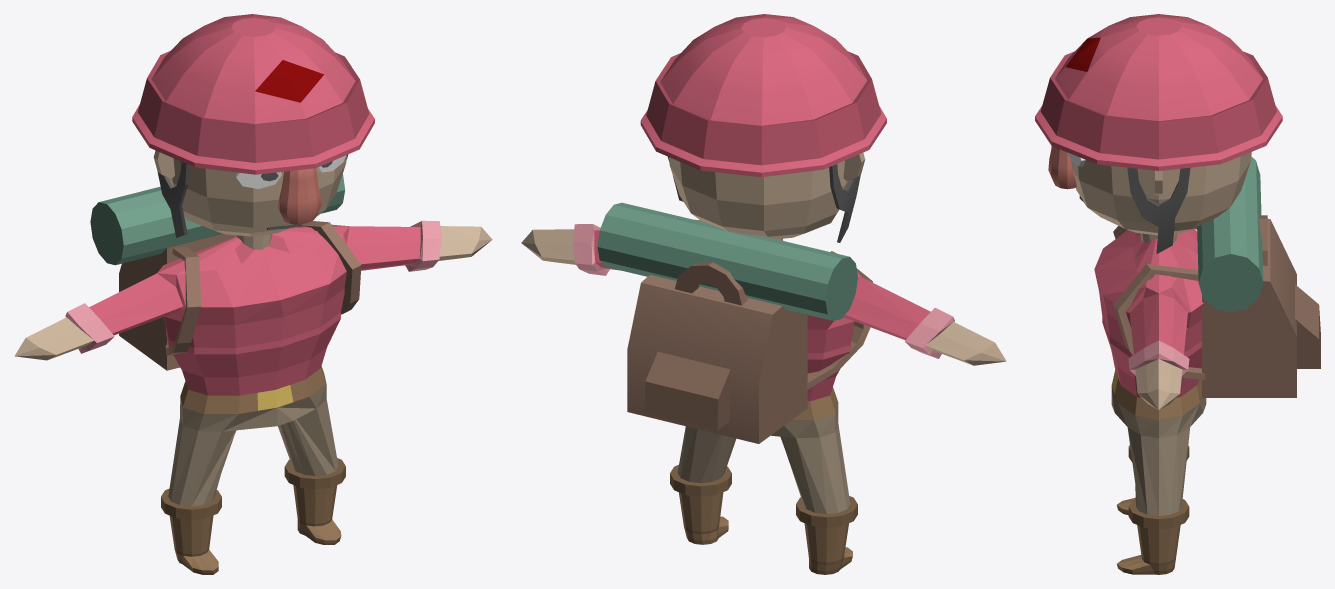
Rendered from Enemy Troop.fbx.
The picture shows the model from 3 angles, left to right: view 1: azimuth 30°, elevation 25°; view 2: azimuth 150°, elevation 25°; view 3: azimuth 270°, elevation 25°; orthographic projection. The views are drawn at different scales.
Parts seen in each view (by area): view 1: pasted__polySurface2, pasted__pasted__pCylinder1, pasted__pSphere1, pasted__pasted__pCylinder3, pasted__pasted__pCube2, pasted__pCylinder2, pasted__polySurface3, pasted__polySurface4, pasted__pPipe1; view 2: pasted__pasted__pCylinder1, pasted__polySurface2, pasted__pasted__pCube2, pasted__pasted__pCylinder3, pasted__pSphere1, pasted__pasted__pCube3, pasted__pasted__pPipe1, pasted__pPipe1, pasted__polySurface3; view 3: pasted__pasted__pCylinder1, pasted__polySurface2, pasted__pasted__pCube2, pasted__pSphere1, pasted__pasted__pCylinder3, pasted__pPipe2, pasted__polySurface4, pasted__pasted__pCube3, pasted__pCylinder2.
Part boxes in pixels (x1,y1,x2,y2): pasted__polySurface2: [14, 220, 492, 574]; pasted__pasted__pCylinder1: [132, 14, 374, 174]; pasted__pSphere1: [168, 155, 346, 236]; pasted__pasted__pCylinder3: [90, 174, 344, 265]; pasted__pasted__pCube2: [119, 234, 234, 370]; pasted__pCylinder2: [277, 168, 321, 224]; pasted__polySurface3: [165, 247, 201, 355]; pasted__polySurface4: [297, 221, 361, 314]; pasted__pPipe1: [157, 161, 189, 237]; pasted__pasted__pCylinder1: [640, 14, 886, 177]; pasted__polySurface2: [521, 224, 1006, 574]; pasted__pasted__pCube2: [627, 274, 807, 443]; pasted__pasted__pCylinder3: [597, 202, 857, 320]; pasted__pSphere1: [669, 157, 850, 239]; pasted__pasted__pCube3: [644, 351, 730, 430]; pasted__pasted__pPipe1: [675, 262, 747, 305]; pasted__pPipe1: [829, 164, 860, 242]; pasted__polySurface3: [806, 251, 872, 389]; pasted__pasted__pCylinder1: [1035, 14, 1282, 170]; pasted__polySurface2: [1094, 228, 1206, 574]; pasted__pasted__pCube2: [1202, 218, 1296, 397]; pasted__pSphere1: [1071, 152, 1251, 235]; pasted__pasted__pCylinder3: [1197, 156, 1263, 312]; pasted__pPipe2: [1127, 167, 1190, 253]; pasted__polySurface4: [1113, 264, 1205, 379]; pasted__pasted__pCube3: [1295, 284, 1320, 368]; pasted__pCylinder2: [1048, 146, 1076, 189].
Bounding box in the file's own units: 5.75 × 5.95 × 3.
